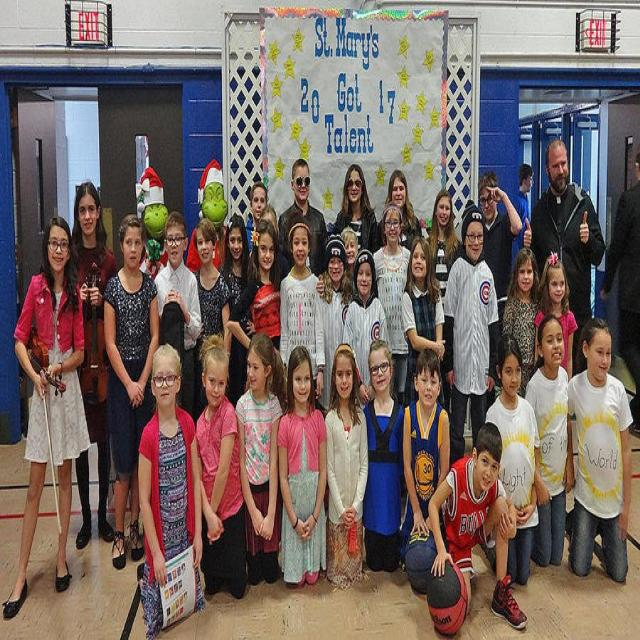body: (0, 212, 92, 620), (424, 419, 529, 636), (134, 340, 207, 639), (101, 210, 161, 572), (522, 137, 607, 380), (564, 314, 634, 584), (69, 179, 118, 552), (443, 196, 501, 473), (484, 331, 541, 585), (194, 333, 248, 598), (234, 330, 288, 586), (398, 345, 452, 598), (275, 344, 329, 590), (522, 312, 572, 570), (598, 145, 639, 439), (323, 340, 370, 592), (134, 152, 230, 274), (361, 337, 405, 572), (154, 209, 202, 418), (279, 216, 327, 410), (192, 217, 232, 428), (426, 188, 462, 414), (316, 220, 356, 423), (226, 218, 284, 357), (476, 168, 523, 339), (342, 248, 391, 412), (401, 236, 446, 413), (217, 213, 254, 410), (276, 156, 326, 294), (501, 245, 541, 398), (534, 249, 580, 382), (331, 162, 381, 256), (377, 168, 422, 254), (512, 163, 536, 251), (246, 178, 270, 256), (339, 226, 360, 294)
